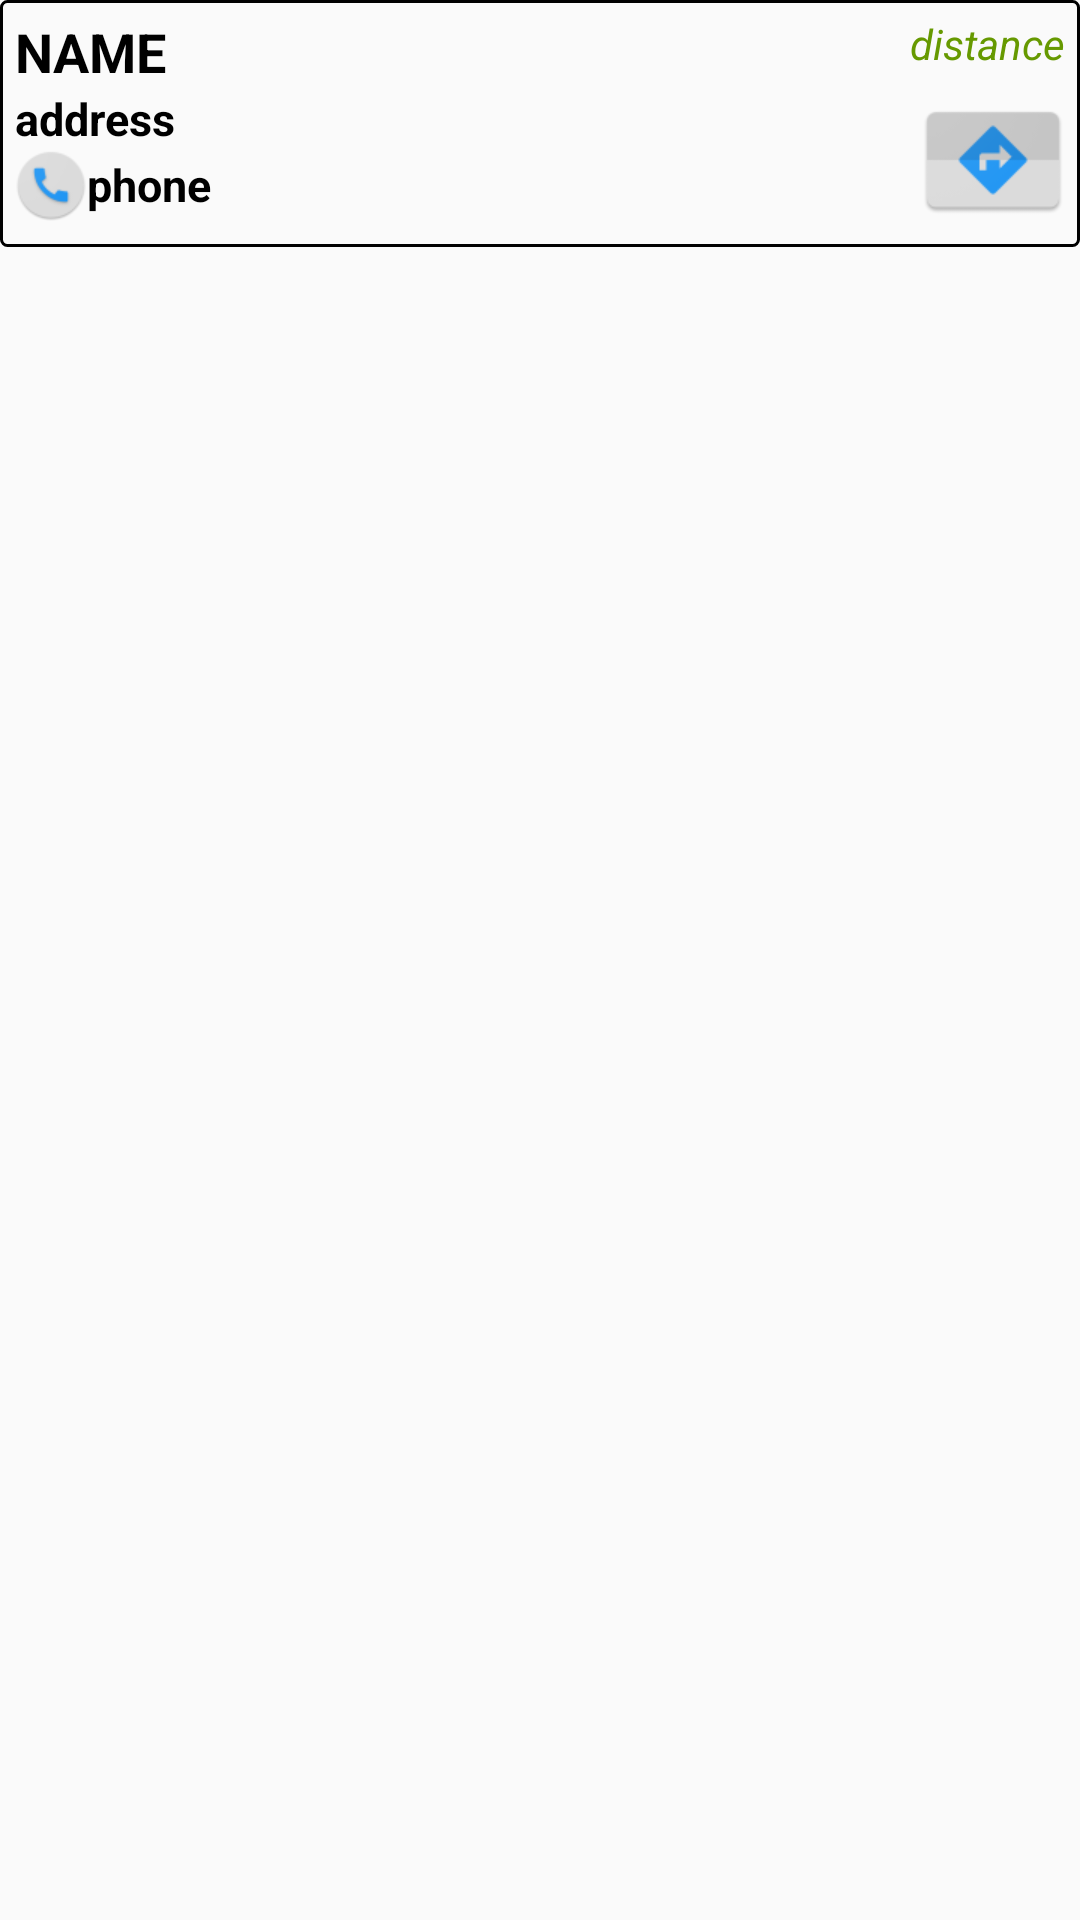

Icon bounding boxes for this 1080px x 1920px phone screenshot, format (left=x1, top=y1, right=x2, bottom=y2):
call: (left=18, top=153, right=84, bottom=220)
direction: (left=926, top=112, right=1060, bottom=211)
